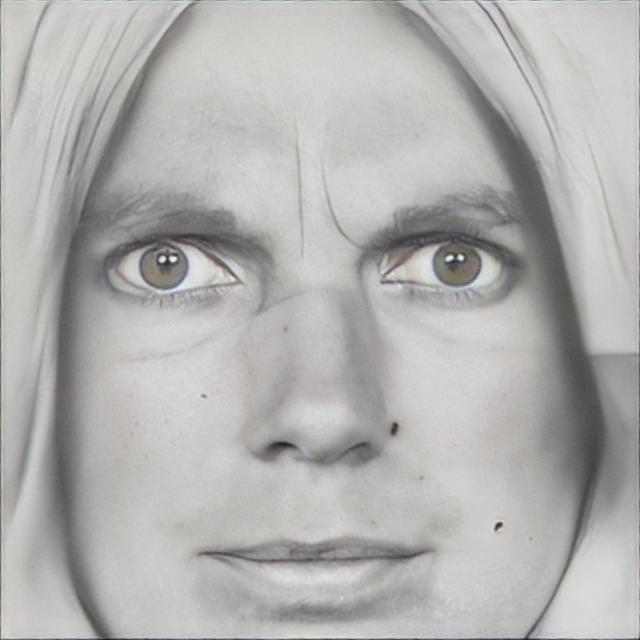anger: (69, 73, 558, 640)
